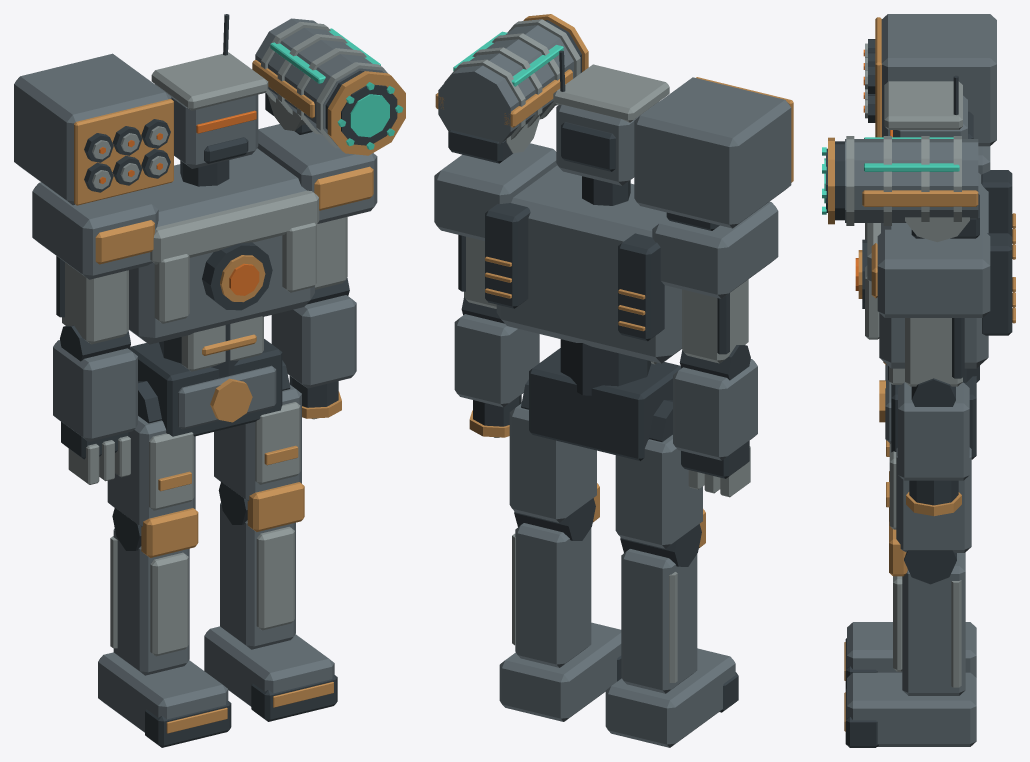
Rendered from siege-walker.glb.
3 renders of one model, left to right at view 1: azimuth 30°, elevation 25°; view 2: azimuth 150°, elevation 25°; view 3: azimuth 270°, elevation 25°, orthographic. The views are drawn at different scales.
Visible parts, largest first — view 1: chest, rocket_pod, plasma_cannon, upperarm_l, shin_l, shin_r, forearm_l, head, pelvis, upperarm_r, foot_l, foot_r (+5 smaller); view 2: chest, rocket_pod, plasma_cannon, upperarm_l, shin_r, shin_l, head, forearm_l, pelvis, upperarm_r, forearm_r, thigh_l (+4 smaller); view 3: plasma_cannon, upperarm_r, rocket_pod, shin_r, chest, forearm_r, foot_r, head, thigh_r, foot_l, pelvis, waist (+1 smaller).
Part boxes in pixels (x1=…): chest: x1=129, y1=148, x2=319, y2=344; rocket_pod: x1=14, y1=53, x2=173, y2=205; plasma_cannon: x1=252, y1=18, x2=405, y2=155; upperarm_l: x1=32, y1=182, x2=158, y2=344; shin_l: x1=110, y1=508, x2=198, y2=675; shin_r: x1=218, y1=482, x2=304, y2=649; forearm_l: x1=53, y1=325, x2=137, y2=484; head: x1=151, y1=14, x2=268, y2=186; pelvis: x1=129, y1=339, x2=282, y2=436; upperarm_r: x1=257, y1=124, x2=377, y2=289; foot_l: x1=98, y1=652, x2=231, y2=747; foot_r: x1=204, y1=626, x2=337, y2=721; chest: x1=485, y1=165, x2=681, y2=363; rocket_pod: x1=634, y1=77, x2=793, y2=230; plasma_cannon: x1=435, y1=14, x2=588, y2=163; upperarm_l: x1=652, y1=201, x2=778, y2=363; shin_r: x1=512, y1=483, x2=599, y2=667; shin_l: x1=620, y1=509, x2=705, y2=693; head: x1=553, y1=50, x2=669, y2=205; forearm_l: x1=673, y1=345, x2=757, y2=497; pelvis: x1=529, y1=348, x2=681, y2=460; upperarm_r: x1=434, y1=143, x2=557, y2=308; forearm_r: x1=454, y1=296, x2=539, y2=437; thigh_l: x1=615, y1=400, x2=702, y2=548; plasma_cannon: x1=822, y1=136, x2=979, y2=242; upperarm_r: x1=871, y1=229, x2=990, y2=386; rocket_pod: x1=863, y1=14, x2=996, y2=146; shin_r: x1=889, y1=521, x2=965, y2=695; chest: x1=858, y1=170, x2=1015, y2=368; forearm_r: x1=898, y1=378, x2=969, y2=516; foot_r: x1=844, y1=672, x2=976, y2=747; head: x1=884, y1=75, x2=973, y2=138; thigh_r: x1=886, y1=443, x2=971, y2=552; foot_l: x1=844, y1=622, x2=976, y2=689; pelvis: x1=879, y1=365, x2=976, y2=459; waist: x1=883, y1=361, x2=979, y2=384.
Bounding box in the file's own units: 10.24 × 20.9 × 5.67.
